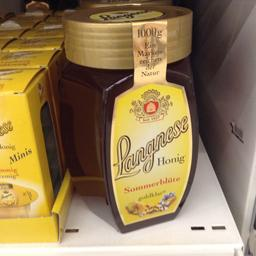honey: (52, 1, 204, 230)
